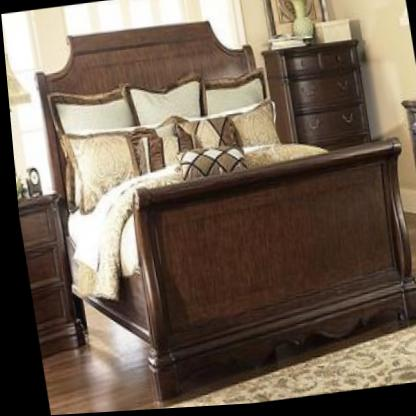Bed: (37, 25, 416, 406)
